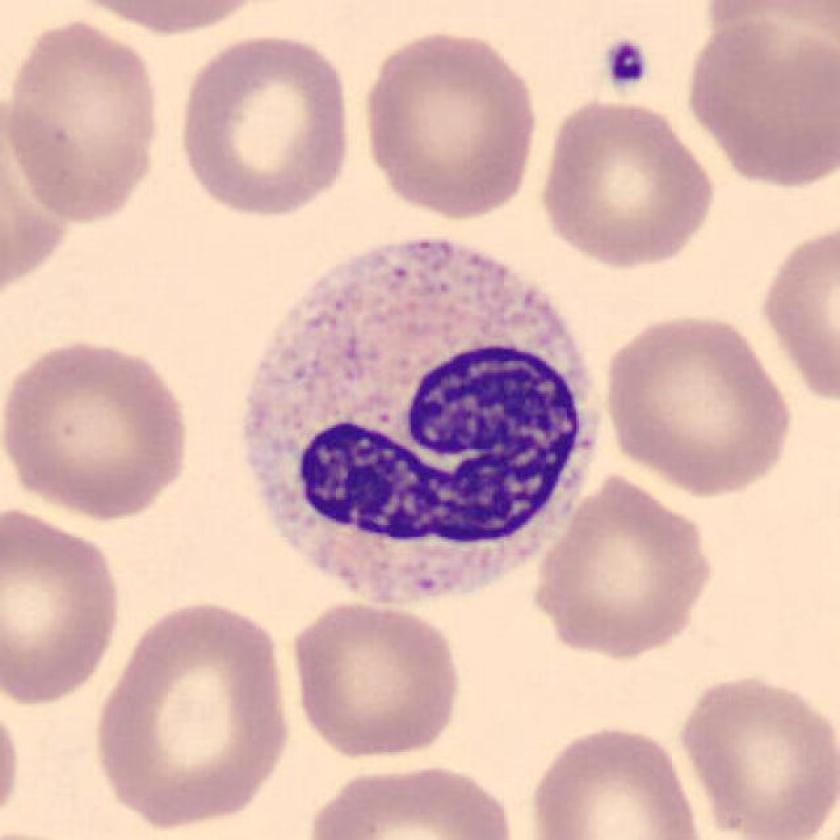neutrophil: (247, 244, 600, 597)
